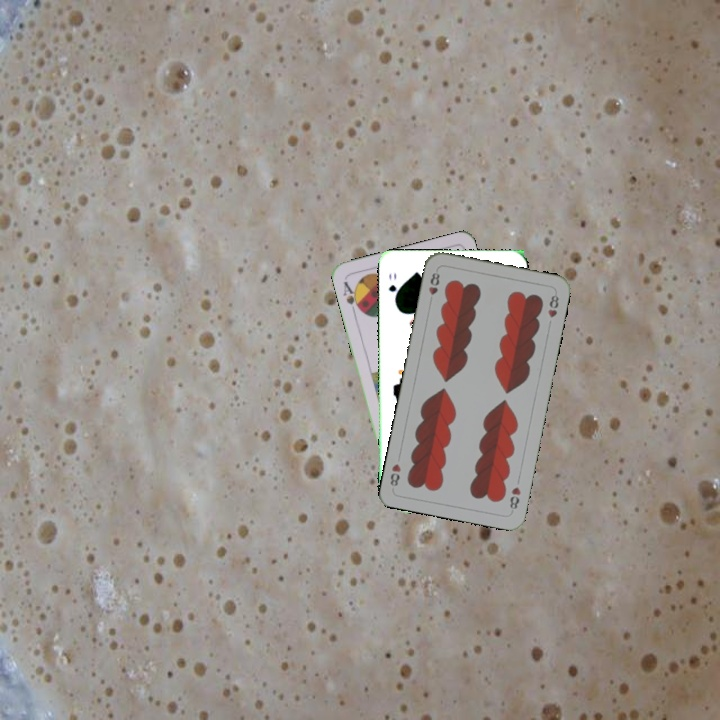GO: (384, 269, 401, 305)
H8: (425, 266, 442, 306), (506, 483, 523, 515)
SA: (339, 277, 364, 316)
